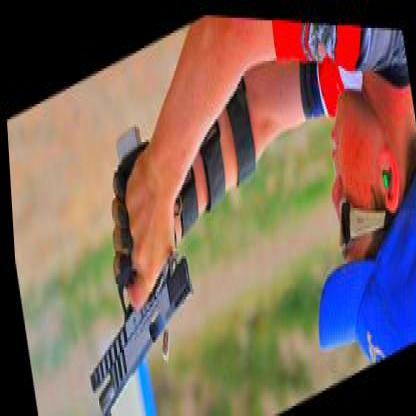pistol: (50, 92, 206, 408)
